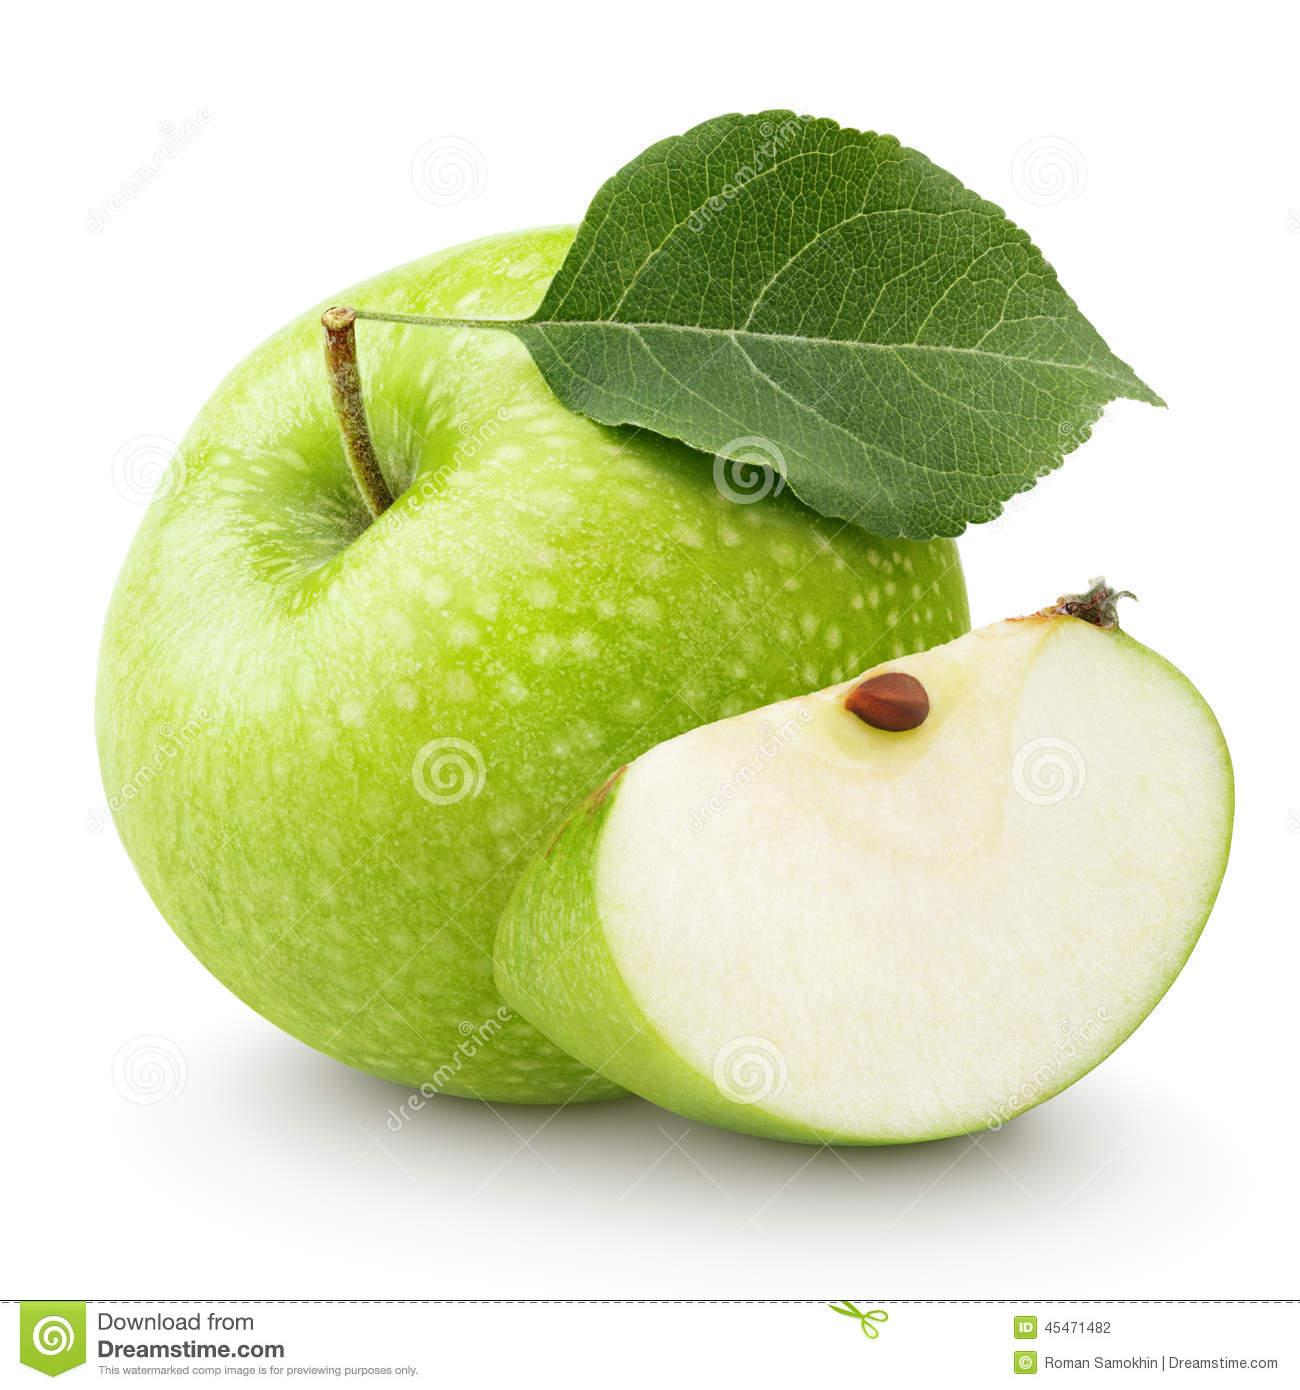Apple leaf: (505, 79, 1178, 563)
